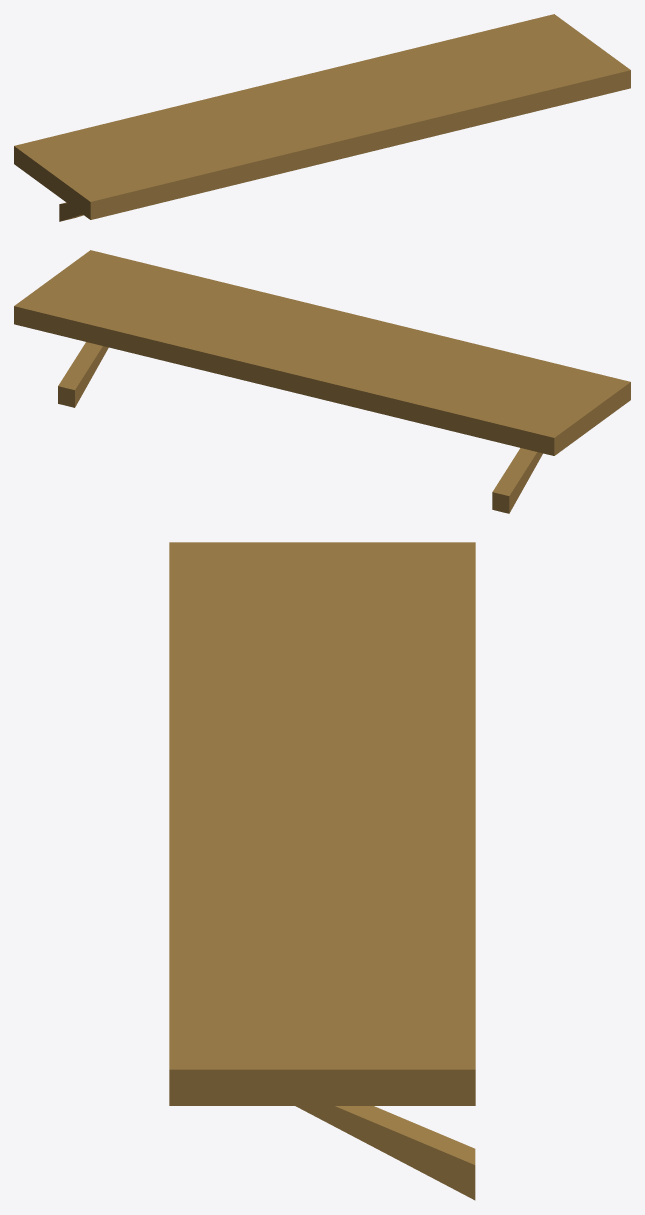
File: polka.fbx
3 views of the same model, one above another, from view 1: azimuth 30°, elevation 25°; view 2: azimuth 150°, elevation 25°; view 3: azimuth 270°, elevation 25° (orthographic). The views are drawn at different scales.
Visible parts, largest first — view 1: polka; view 2: polka; view 3: polka.
Part boxes in pixels (x1,y1,x2,y2): polka: [14, 14, 630, 221]; polka: [14, 250, 630, 513]; polka: [169, 542, 475, 1200].
Bounding box in the file's own units: 545 × 83.88 × 134.
